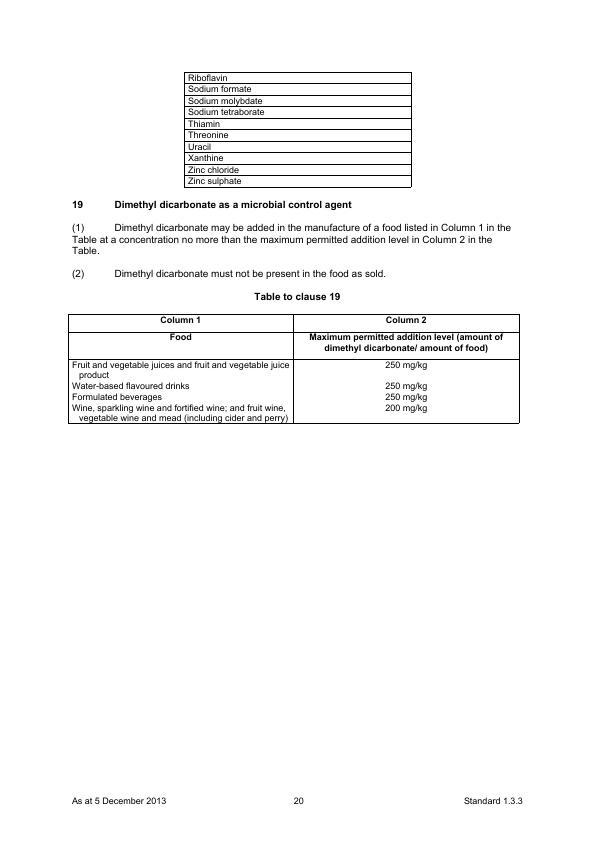table: (64, 310, 528, 434), (177, 67, 419, 193)
text: (68, 197, 513, 283), (252, 287, 344, 307)
